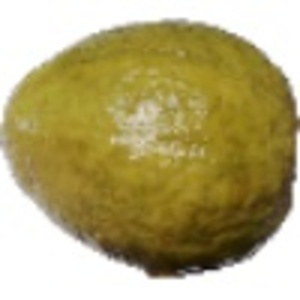goiaba: (1, 16, 297, 286)
